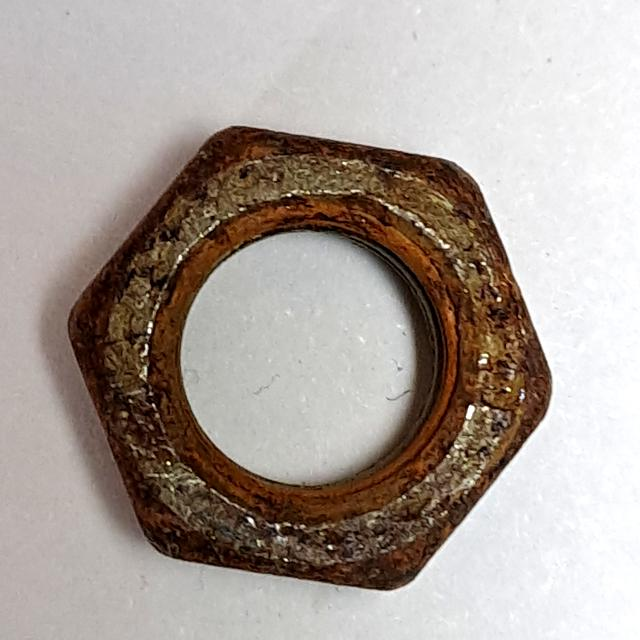Rust: (59, 113, 561, 606)
